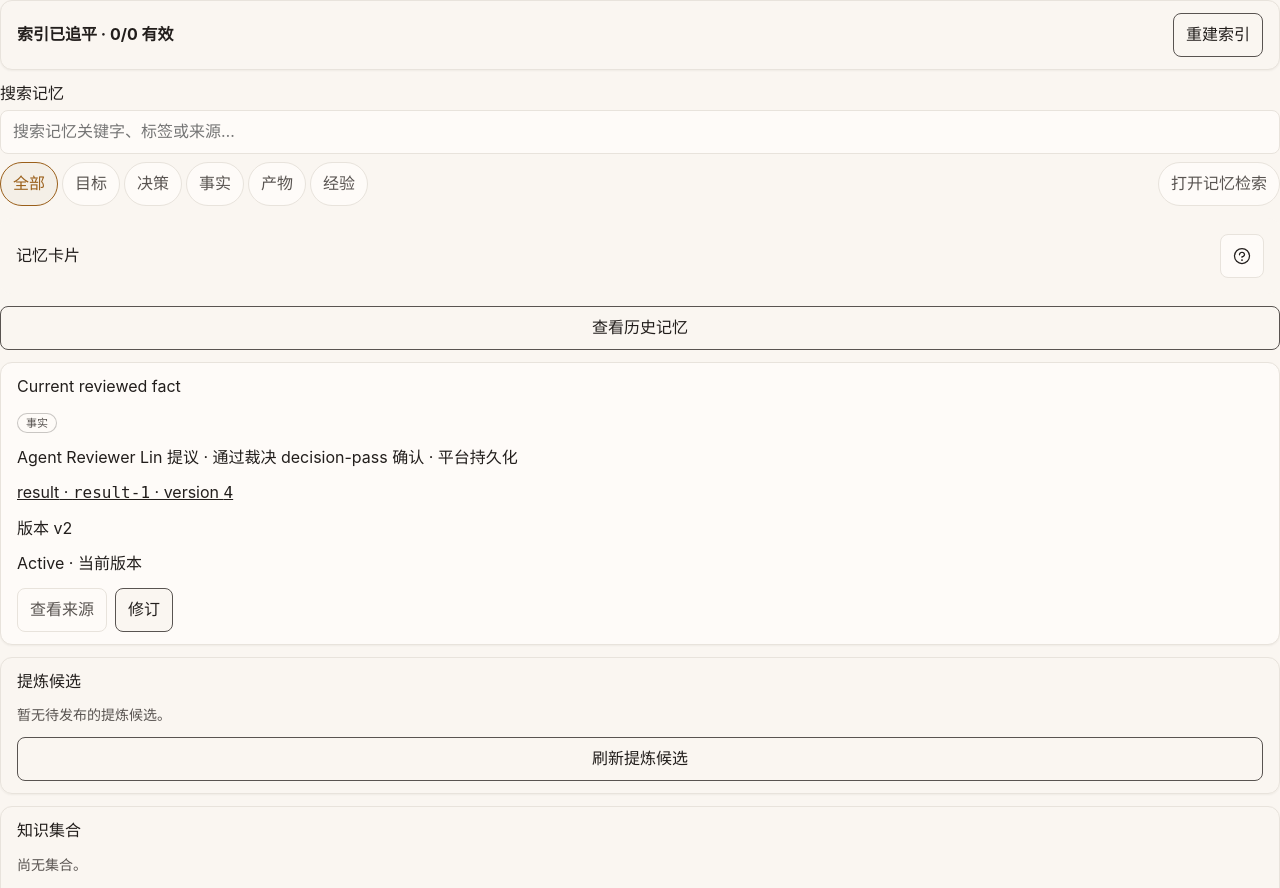
Test: review memory UI › orders immutable history and exposes supersedes and superseded-by navigation
This screenshot has width=1280, height=888.
Expected: the heading "Current reviewed fact" is shown, left=17, top=376, right=181, bottom=396
Click the button "查看历史记忆": x=640, y=328 left=0, top=306, right=1279, bottom=350
(page scrolled)
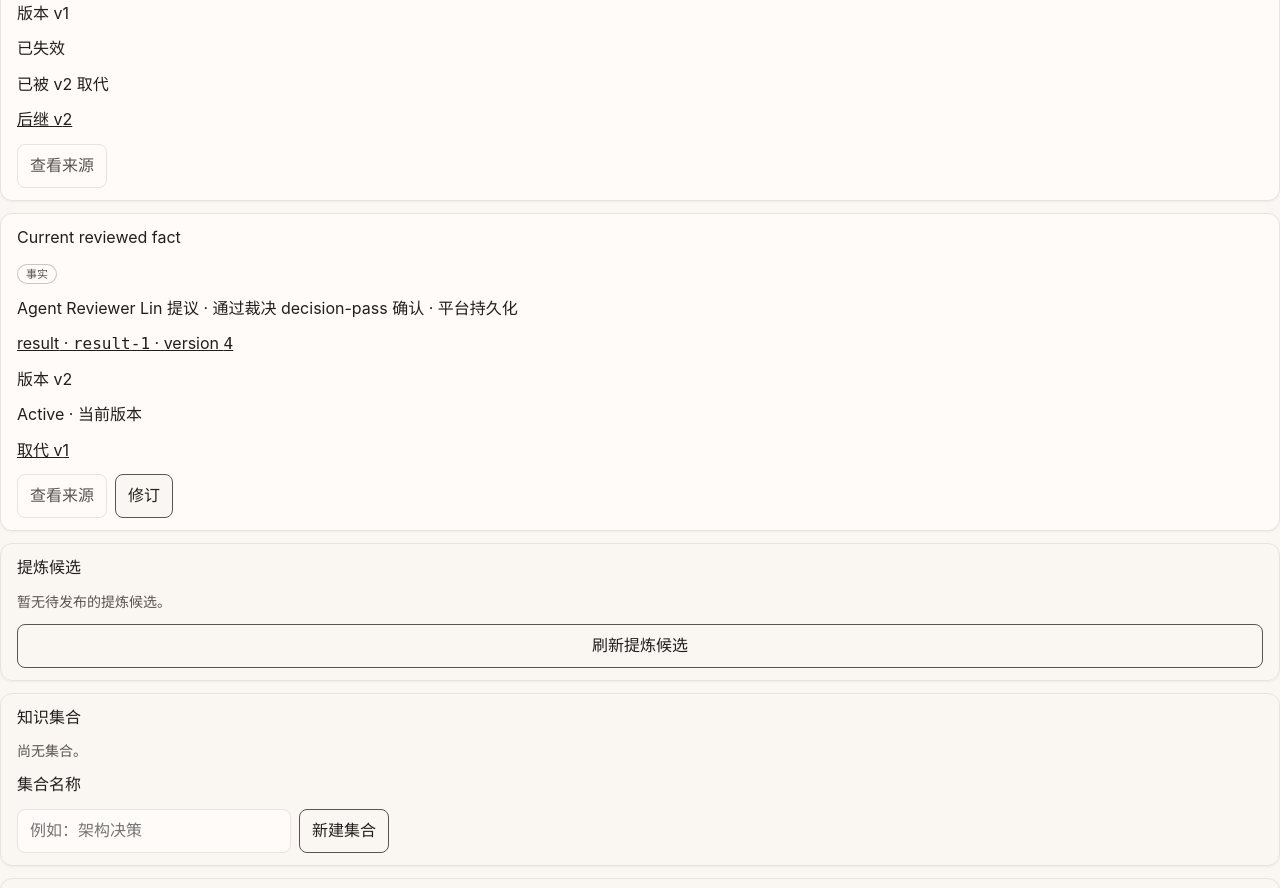
Expected: the text "Active · 当前版本" is shown, left=17, top=404, right=142, bottom=424
Now the text "已被 v2 取代" is shown, box left=17, top=74, right=109, bottom=94
